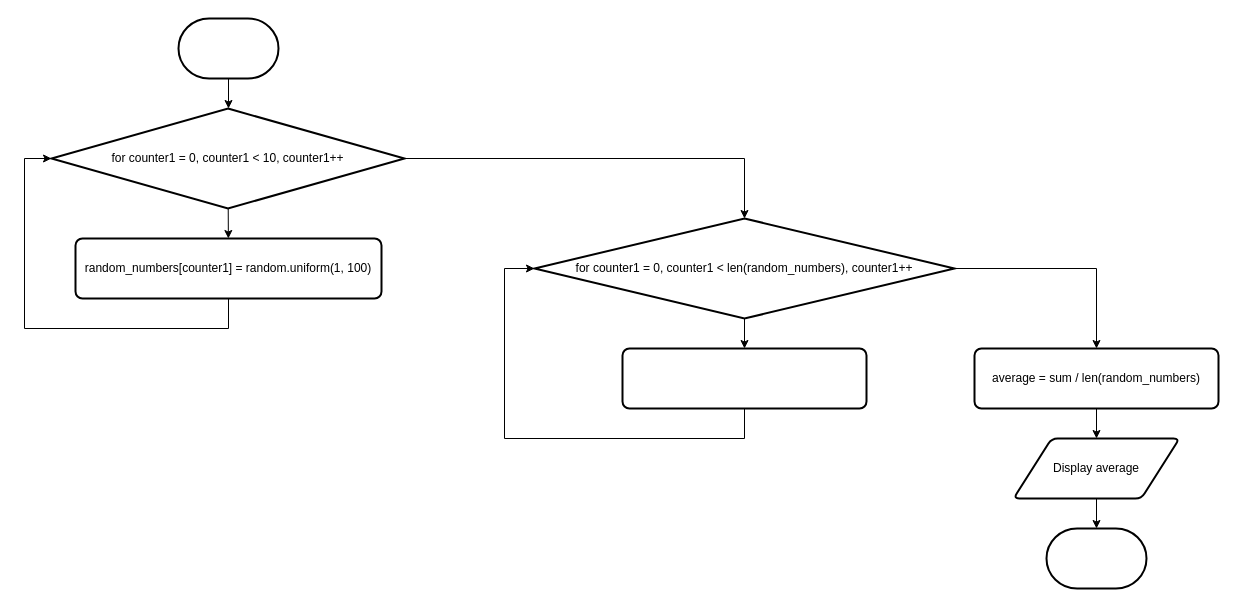
The diagram is 1237 pixels wide and 606 high, and some of its shapes have lost their labels. Here are the shapes that lost their labels. From the top down, the box of each, then its label:
(177, 17, 279, 79): Start
(621, 347, 867, 409): sum += random_numbers[counter1]
(1045, 527, 1147, 589): Stop
